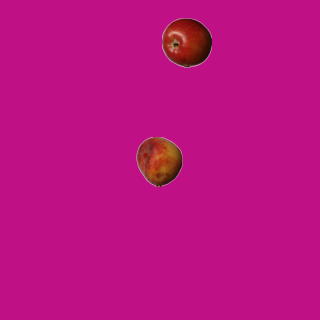Apple Braeburn: (161, 17, 211, 67)
Peach: (134, 136, 184, 186)
